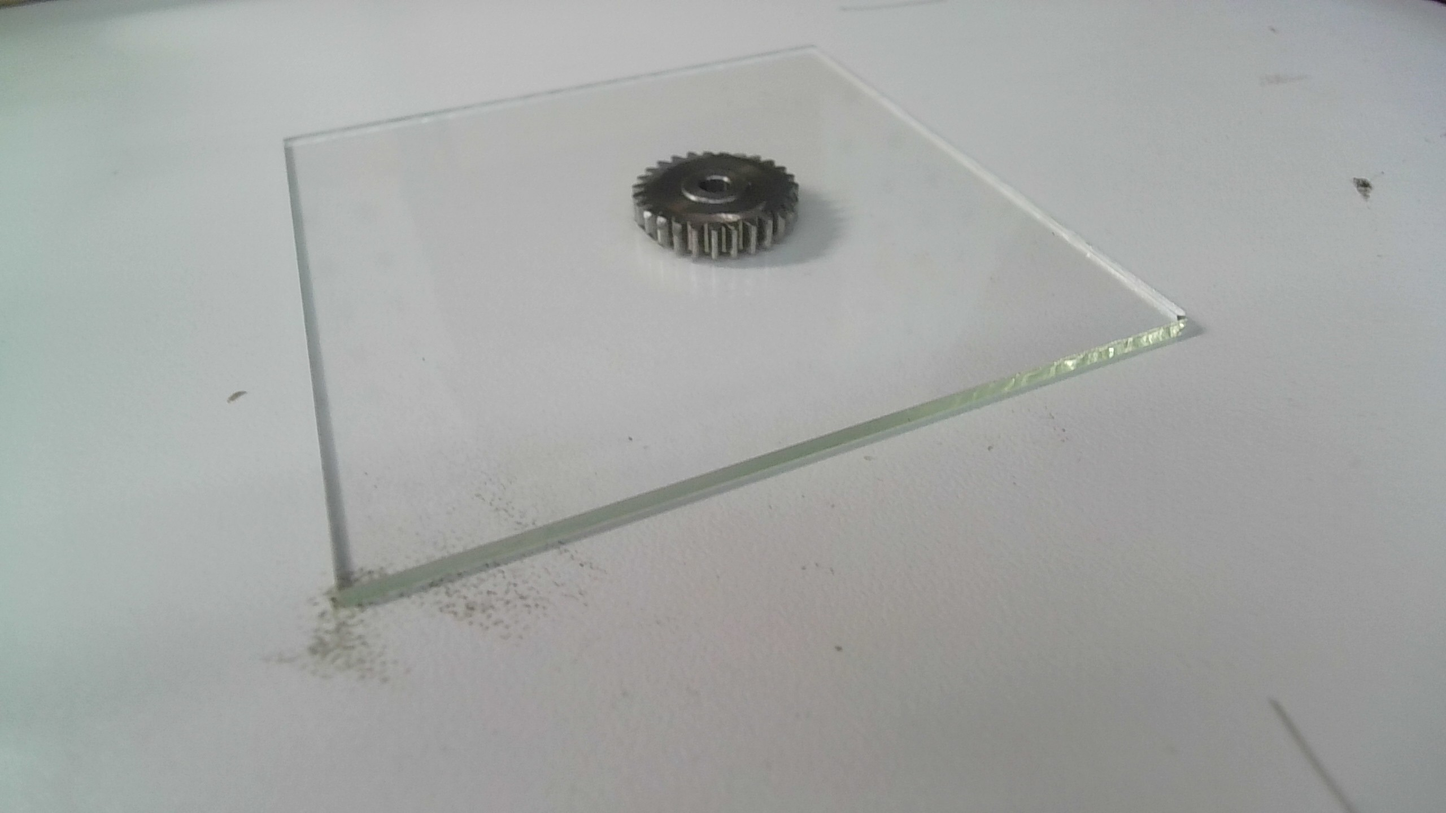gear: (625, 141, 800, 264)
